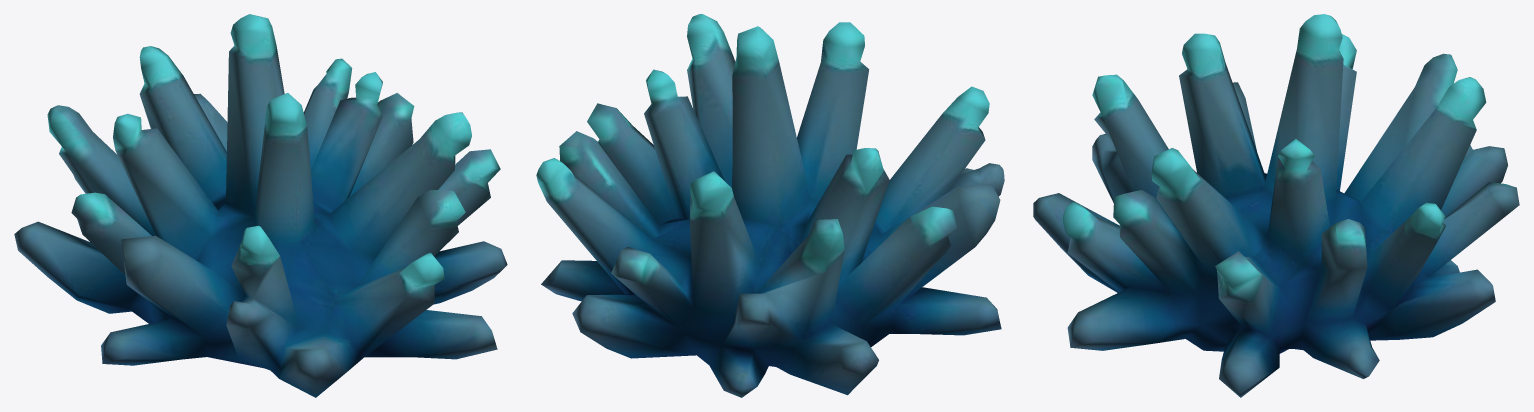
Rendered from shrub.glb.
3 renders of one model, left to right at view 1: azimuth 30°, elevation 25°; view 2: azimuth 150°, elevation 25°; view 3: azimuth 270°, elevation 25°, orthographic. The views are drawn at different scales.
Visible parts, largest first — view 1: tripo_node_a7e6cfc2-7b03-4926-90f0-8aedb6c7e149; view 2: tripo_node_a7e6cfc2-7b03-4926-90f0-8aedb6c7e149; view 3: tripo_node_a7e6cfc2-7b03-4926-90f0-8aedb6c7e149.
Boxes of the visible parts, x1,y1,x2,y2 form: tripo_node_a7e6cfc2-7b03-4926-90f0-8aedb6c7e149: [14, 14, 507, 397]; tripo_node_a7e6cfc2-7b03-4926-90f0-8aedb6c7e149: [536, 14, 1004, 397]; tripo_node_a7e6cfc2-7b03-4926-90f0-8aedb6c7e149: [1033, 14, 1519, 397].
Size of the model in its own units: 0.9707 by 0.6777 by 0.998.
1 material, 1 textured.
